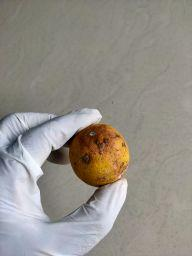lemon: (67, 121, 133, 188)
